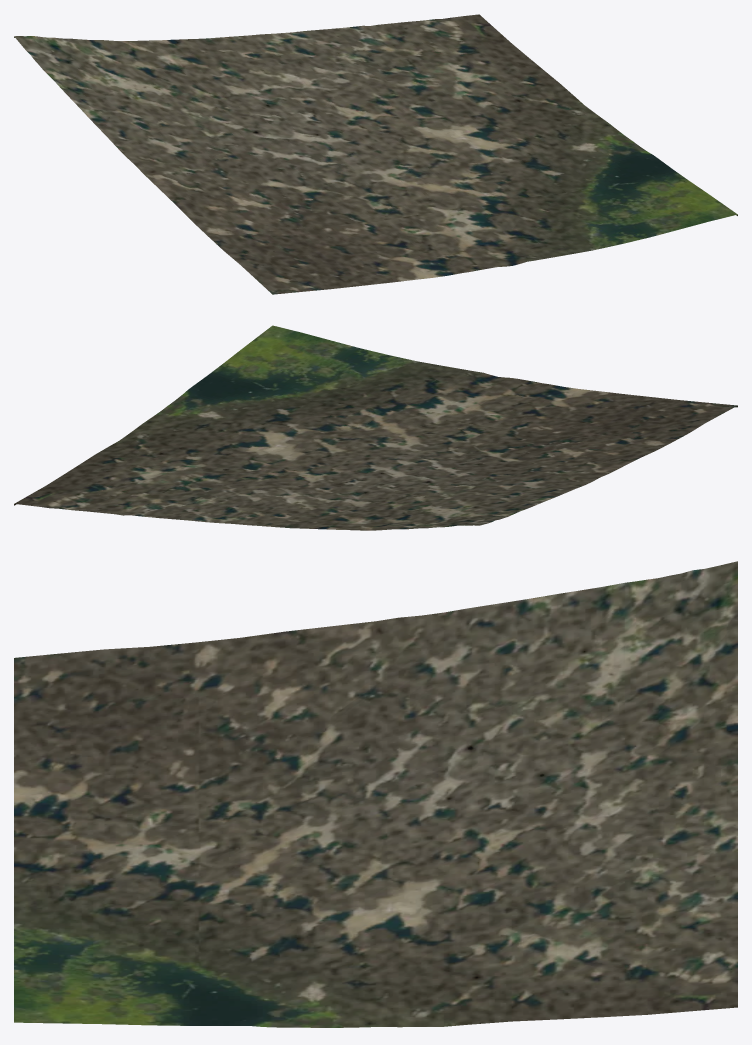
3 views of the same model, one above another, from view 1: azimuth 30°, elevation 25°; view 2: azimuth 150°, elevation 25°; view 3: azimuth 270°, elevation 25° (orthographic). The views are drawn at different scales.
Size of the model in its own units: 250 by 55.62 by 241.
1 material, 1 textured.
